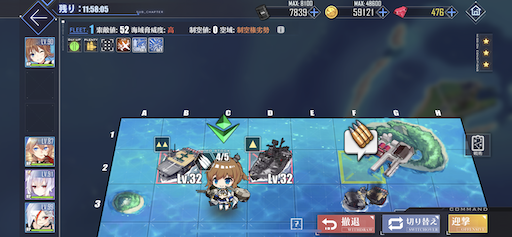lv1: (243, 132, 294, 184)
lv2: (152, 134, 205, 185)
